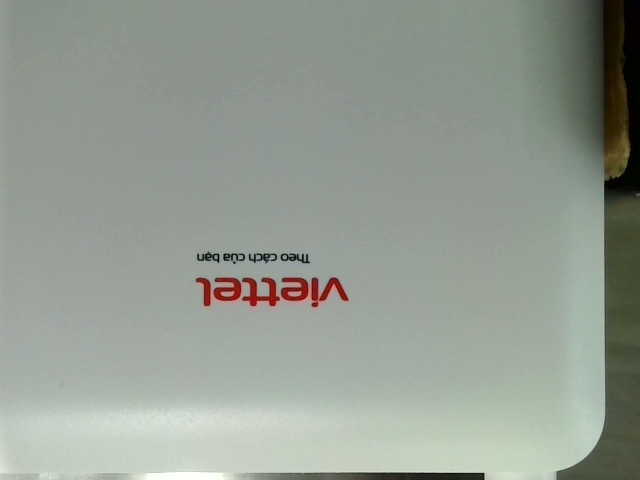AY_Viettel: (185, 251, 352, 309)
